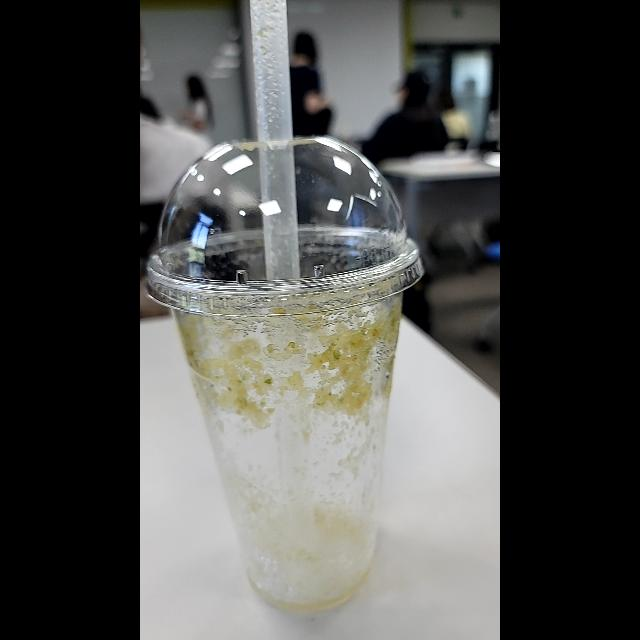plastic_cup: (144, 130, 426, 628)
plastic_cup_lid: (142, 136, 428, 318)
straw: (228, 0, 329, 312)
